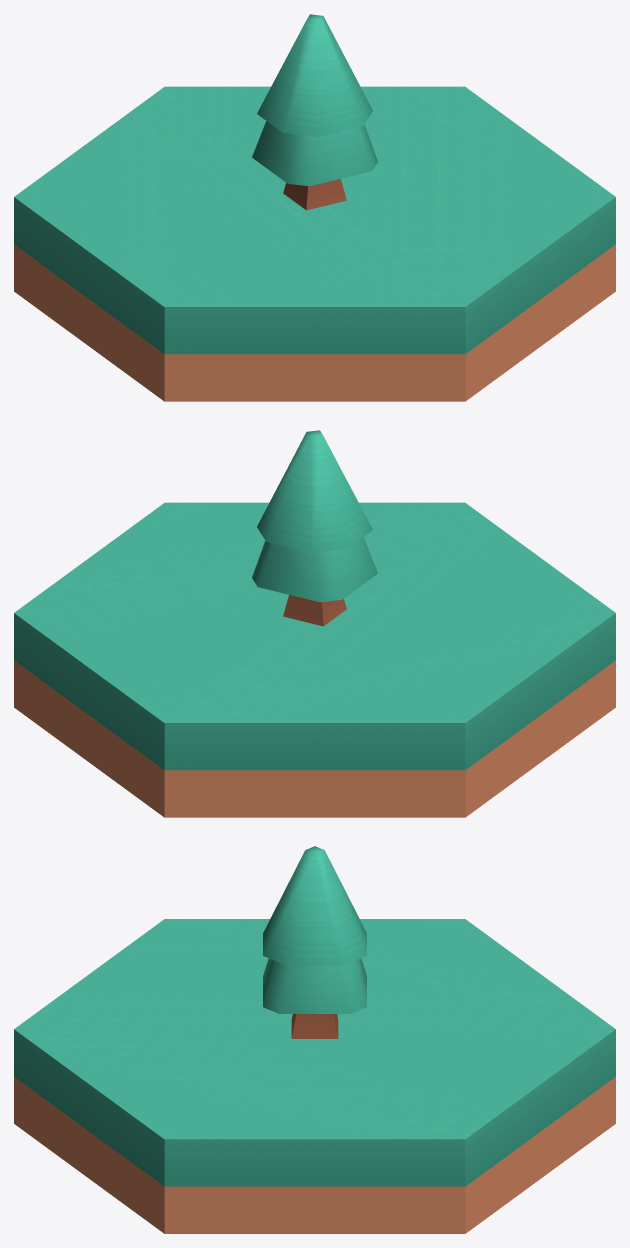
File: grass-tree.glb
3 views of the same model, one above another, from view 1: azimuth 30°, elevation 25°; view 2: azimuth 150°, elevation 25°; view 3: azimuth 270°, elevation 25° (orthographic).
Parts seen in each view (by area): view 1: grass, unit-tree; view 2: grass, unit-tree; view 3: grass, unit-tree.
Boxes of the visible parts, <box> form: grass: <box>14,86,615,401</box>; unit-tree: <box>252,14,377,210</box>; grass: <box>14,502,615,817</box>; unit-tree: <box>252,430,377,626</box>; grass: <box>14,919,615,1233</box>; unit-tree: <box>263,846,366,1038</box>.
Bounding box in the file's own units: 1 × 0.579 × 1.15.
Materials: 1 (1 with a texture image).
